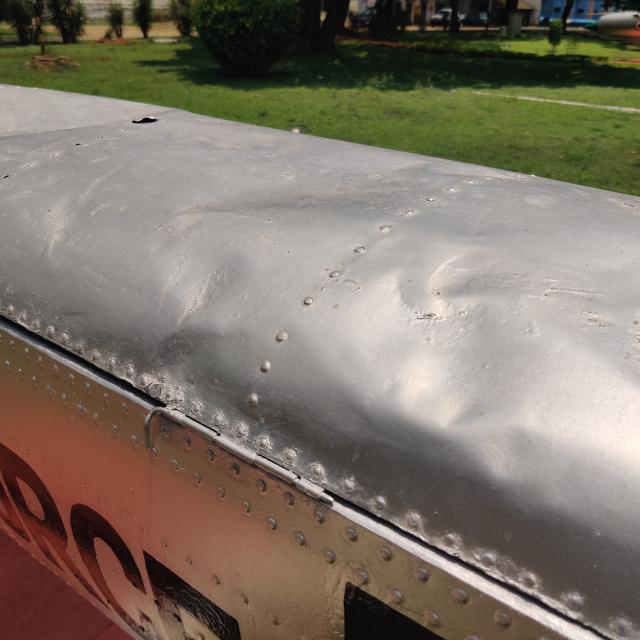dent: (335, 238, 550, 458), (160, 235, 262, 350), (468, 412, 568, 511)
